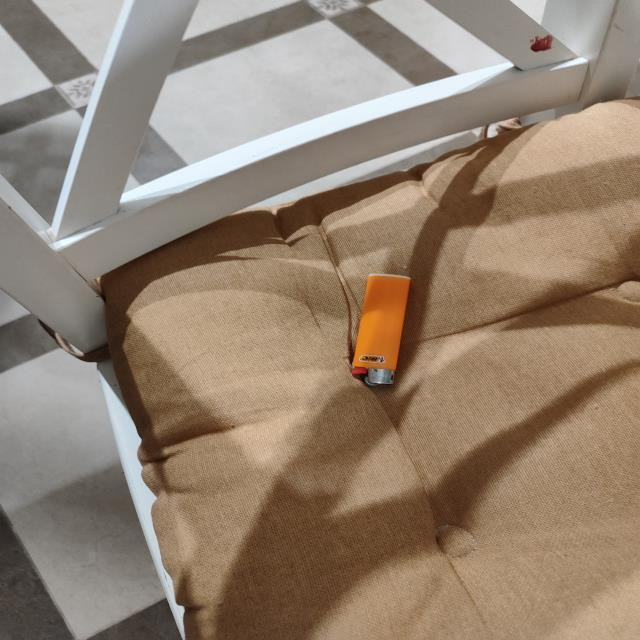lighter: (351, 274, 410, 386)
